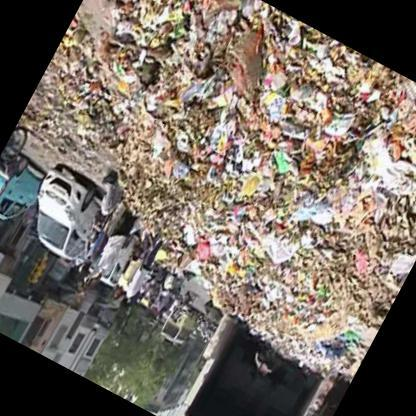Garbage: (200, 124, 349, 290), (268, 196, 412, 365), (137, 43, 280, 207), (104, 0, 200, 108), (300, 34, 380, 105)
